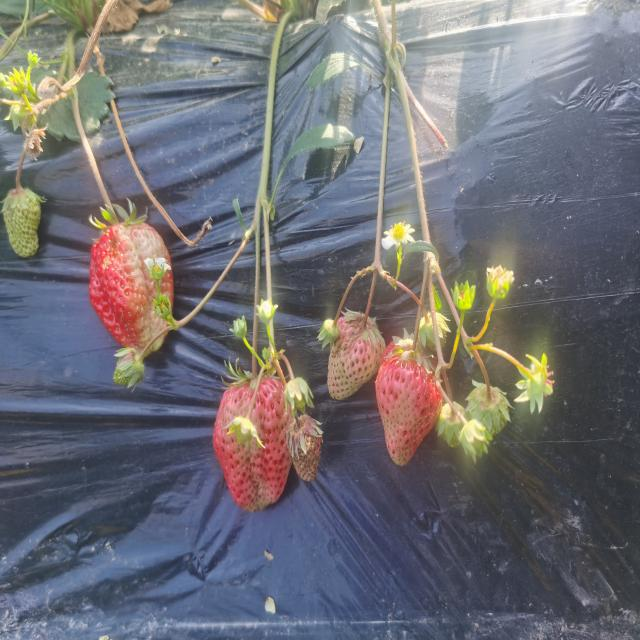stem: (96, 175, 120, 228), (360, 281, 376, 329), (410, 311, 422, 355), (252, 355, 257, 381), (253, 335, 257, 353)
strawberry: (213, 377, 292, 512), (89, 222, 171, 351), (375, 338, 443, 466), (328, 312, 385, 400), (160, 272, 173, 308)
